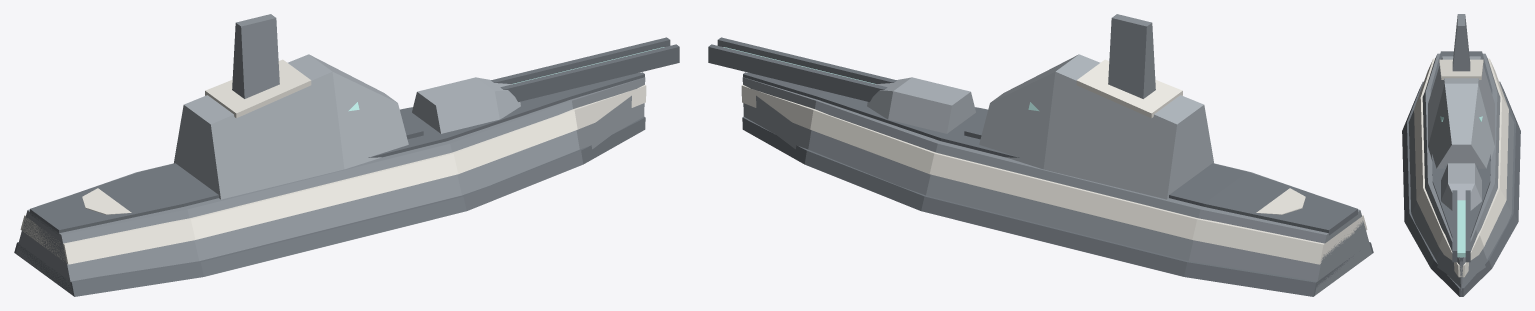
File: fleet.glb
3 renders of one model, left to right at view 1: azimuth 30°, elevation 25°; view 2: azimuth 150°, elevation 25°; view 3: azimuth 270°, elevation 25°, orthographic. The views are drawn at different scales.
Visible parts, largest first — view 1: future_fleet; view 2: future_fleet; view 3: future_fleet.
Boxes of the visible parts, x1,y1,x2,y2 form: future_fleet: (14, 14, 679, 296); future_fleet: (708, 14, 1373, 296); future_fleet: (1402, 14, 1520, 296).
Size of the model in its own units: 0.9995 by 0.3083 by 0.2317.
